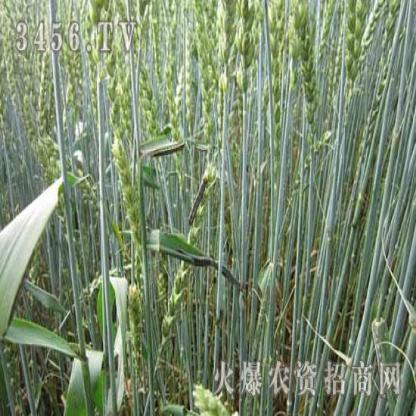armyworm: (187, 174, 210, 232), (150, 141, 190, 161)
